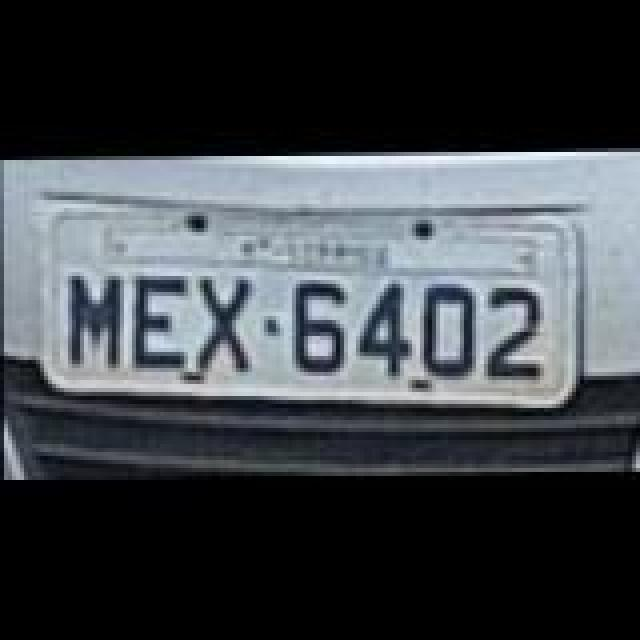2: (482, 286, 546, 382)
4: (356, 286, 416, 378)
6: (286, 280, 350, 376)
D: (418, 284, 482, 376)
E: (130, 274, 194, 370)
M: (68, 272, 128, 372)
X: (192, 278, 260, 374)
